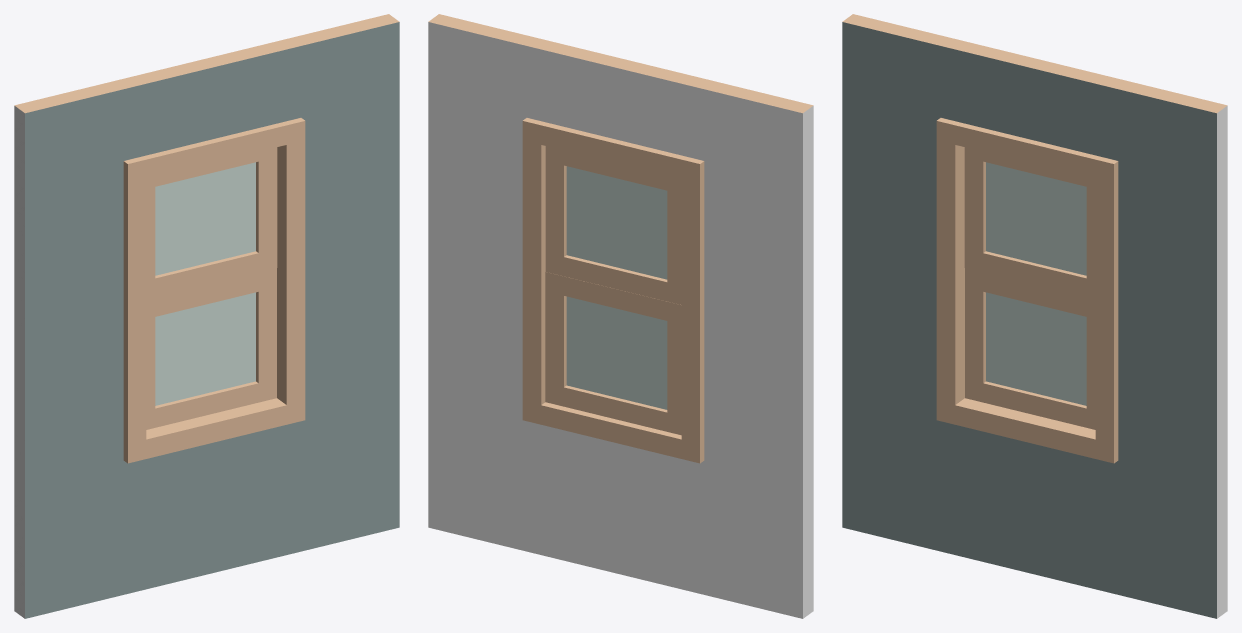
File: wallWindowSlide.fbx
3 views of the same model, side by side, from view 1: azimuth 30°, elevation 25°; view 2: azimuth 150°, elevation 25°; view 3: azimuth 330°, elevation 25° (orthographic).
Visible parts, largest first — view 1: wallWindowSlide, windowBottom, windowTop; view 2: wallWindowSlide, windowBottom, windowTop; view 3: wallWindowSlide, windowBottom, windowTop.
Boxes of the visible parts, box(x1,y1,x2,y2) form: wallWindowSlide: box(14, 14, 399, 618); windowBottom: box(146, 268, 276, 429); windowTop: box(146, 147, 277, 299); wallWindowSlide: box(428, 14, 813, 618); windowBottom: box(545, 272, 681, 435); windowTop: box(545, 146, 681, 304); wallWindowSlide: box(842, 14, 1227, 618); windowBottom: box(965, 268, 1095, 429); windowTop: box(964, 147, 1095, 299).
Size of the model in its own units: 1000 by 1290 by 89.1.
